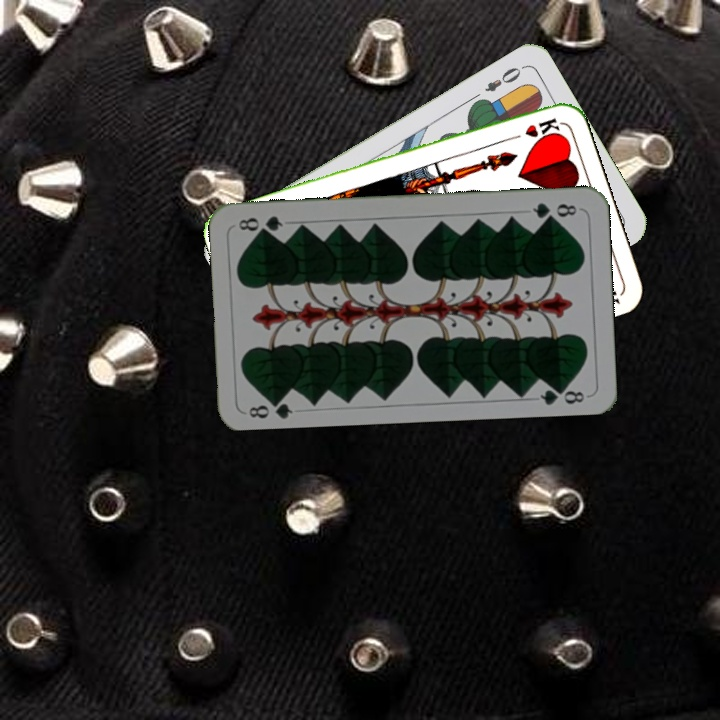EO: (480, 61, 527, 95)
G8: (245, 393, 295, 421), (528, 198, 580, 222)
HK: (503, 113, 561, 144)
